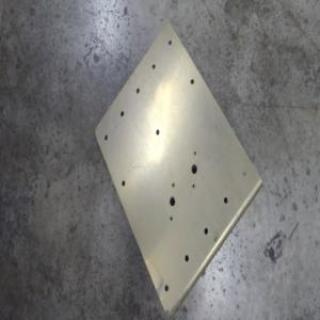MetalSheettrack_idkeyframe: (92, 19, 262, 316)
